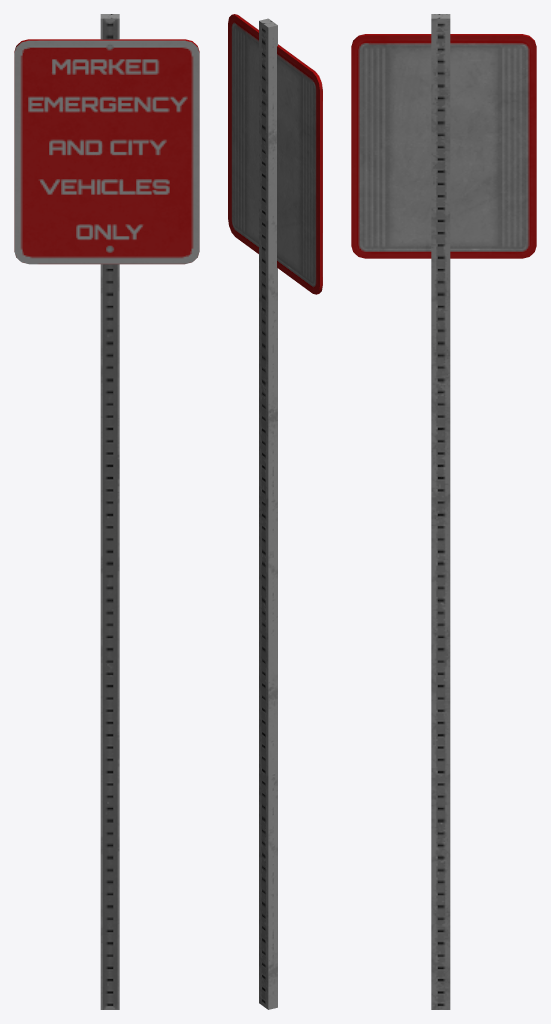
File: MB_Sign_Emergency.fbx
3 views of the same model, side by side, from view 1: azimuth 90°, elevation 25°; view 2: azimuth 210°, elevation 25°; view 3: azimuth 270°, elevation 25° (orthographic).
Parts seen in each view (by area): view 1: MB_Sign_Emergency; view 2: MB_Sign_Emergency; view 3: MB_Sign_Emergency.
Part boxes in pixels (bbox=[...]): MB_Sign_Emergency: bbox=[14, 14, 199, 1009]; MB_Sign_Emergency: bbox=[228, 14, 322, 1009]; MB_Sign_Emergency: bbox=[351, 14, 536, 1009].
Size of the model in its own units: 2.6 by 209 by 35.46.
